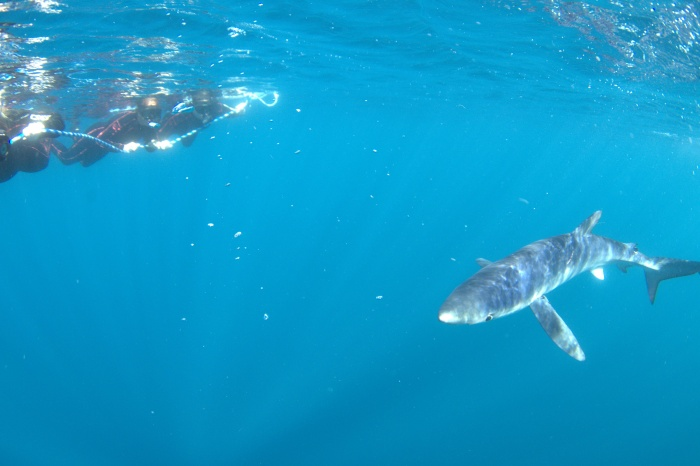Azul: (417, 197, 700, 365)
